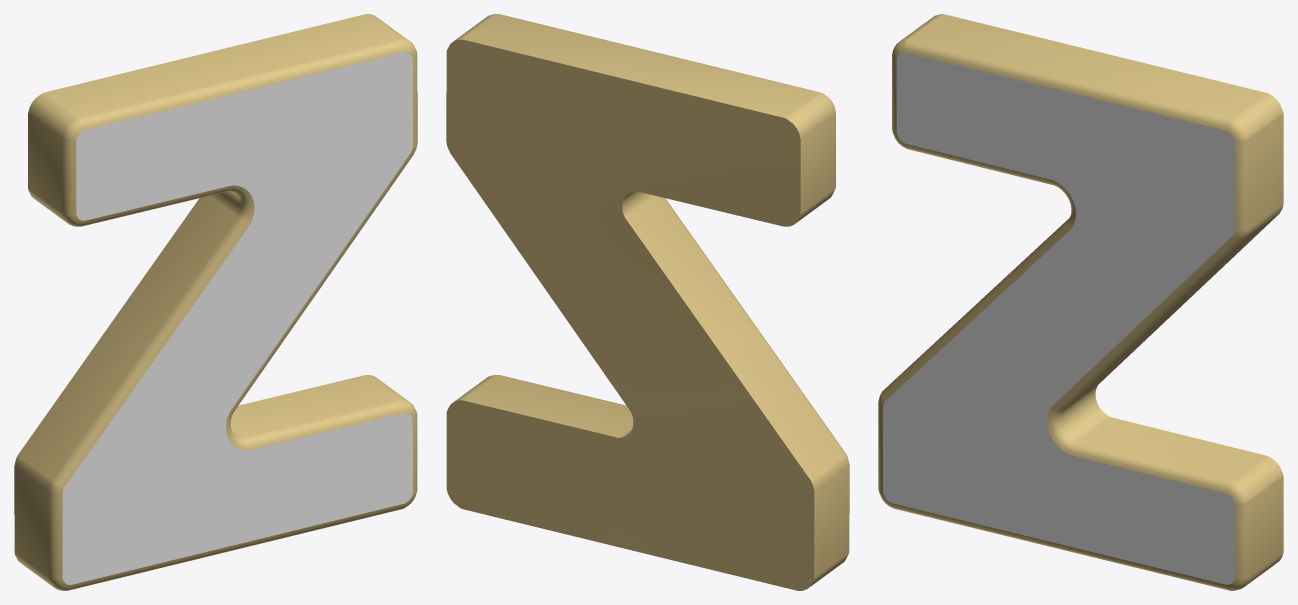
Rendered from LettersLightUp02_Z.FBX.
The picture shows the model from 3 angles, left to right: view 1: azimuth 30°, elevation 25°; view 2: azimuth 150°, elevation 25°; view 3: azimuth 330°, elevation 25°; orthographic projection.
Parts seen in each view (by area): view 1: LettersLightUp02_Z; view 2: LettersLightUp02_Z; view 3: LettersLightUp02_Z.
Part boxes in pixels (x1=…): LettersLightUp02_Z: x1=14, y1=14, x2=417, y2=590; LettersLightUp02_Z: x1=446, y1=14, x2=849, y2=590; LettersLightUp02_Z: x1=878, y1=14, x2=1283, y2=590.
Size of what is drawn, in the model's own units: 0.4915 by 0.5996 by 0.0912.
